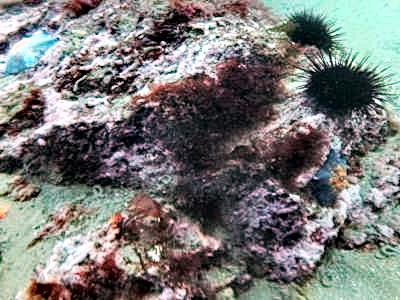urchin: (295, 56, 395, 117), (281, 10, 339, 51)
